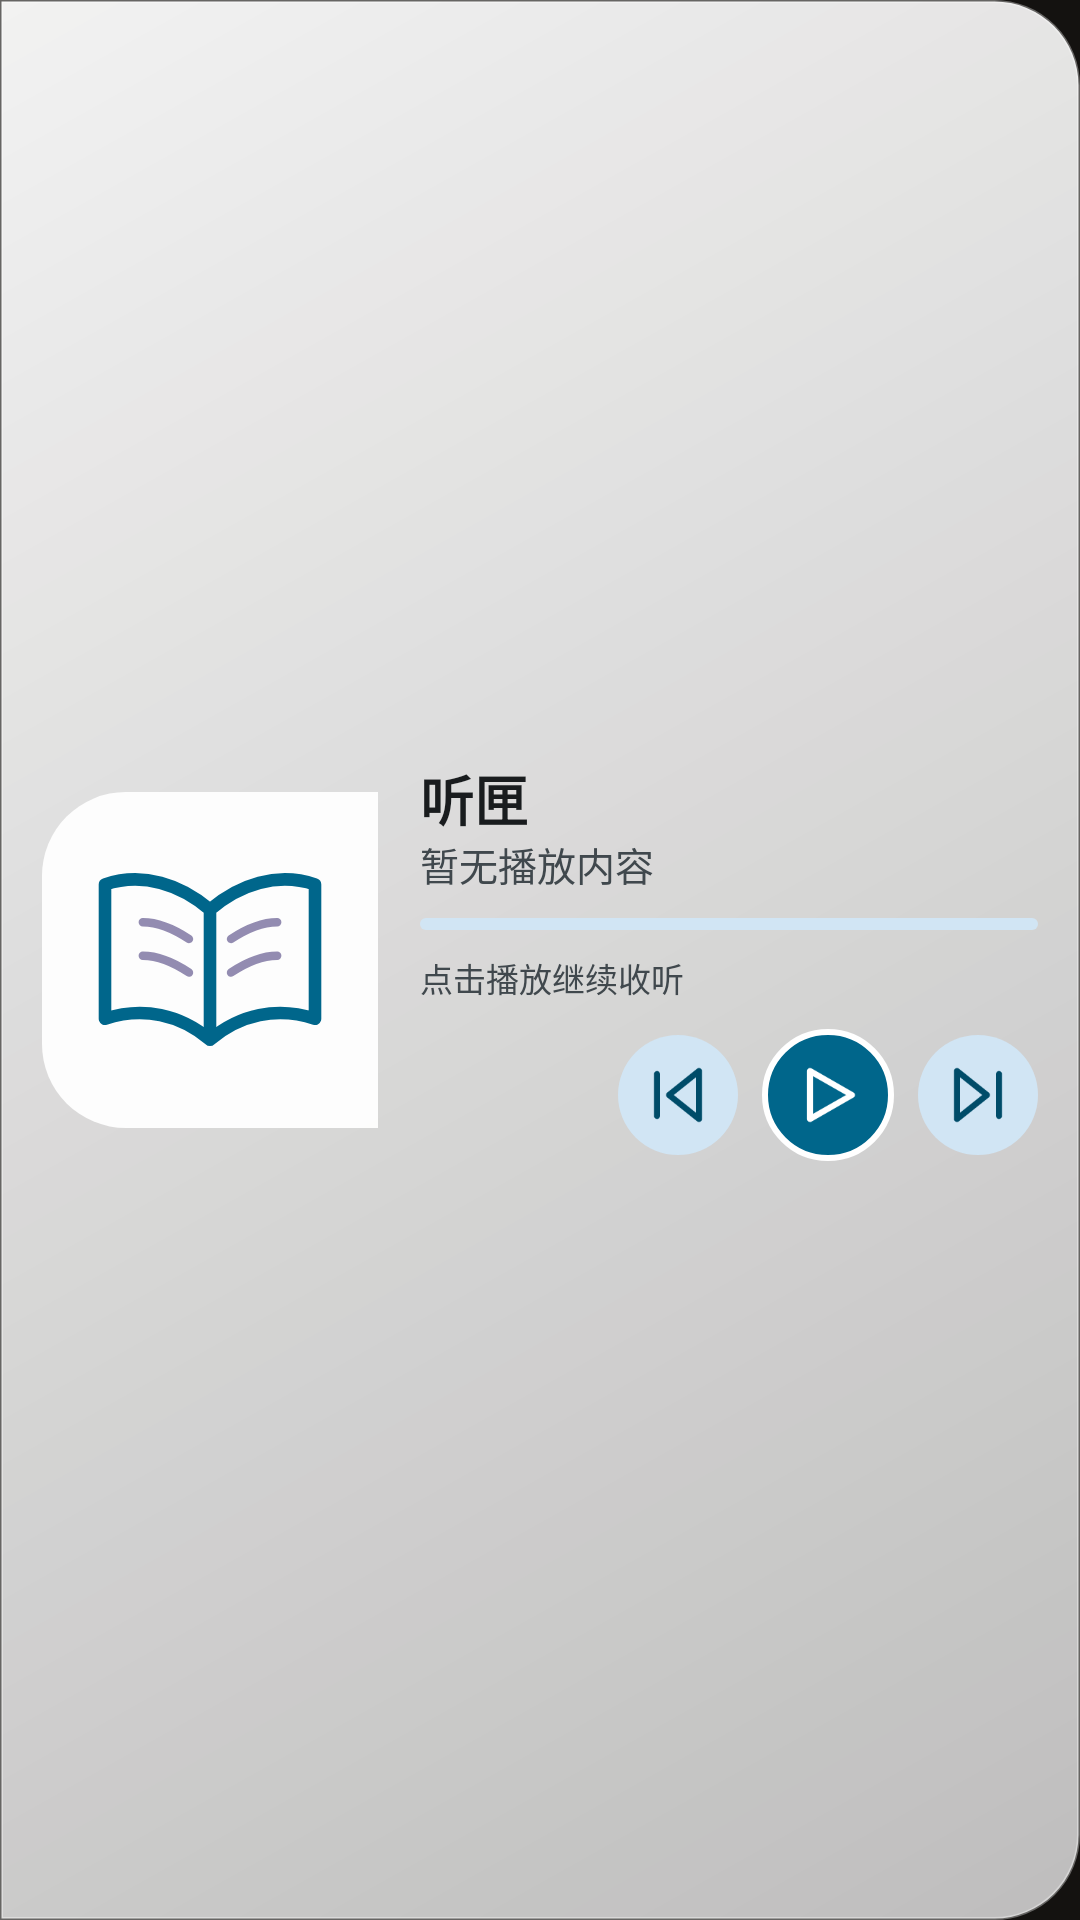

Screen size 1080 × 1920. Icon name, then its center in pixels as (x,y):
上一章: (678,1095)
下一章: (978,1095)
